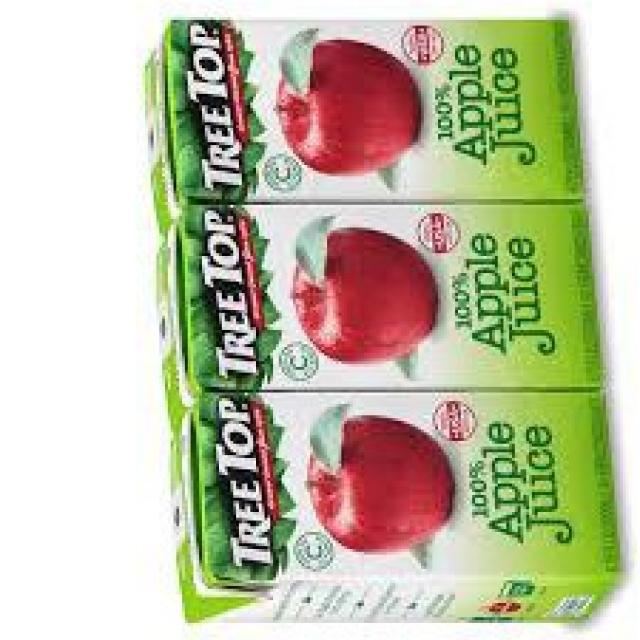non_white_jug: (169, 397, 623, 626), (150, 206, 605, 393), (139, 17, 589, 205)
